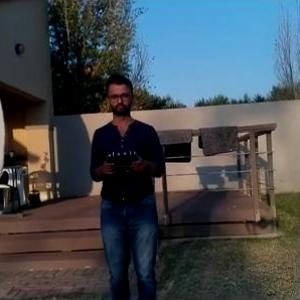follow: (87, 66, 171, 299)
